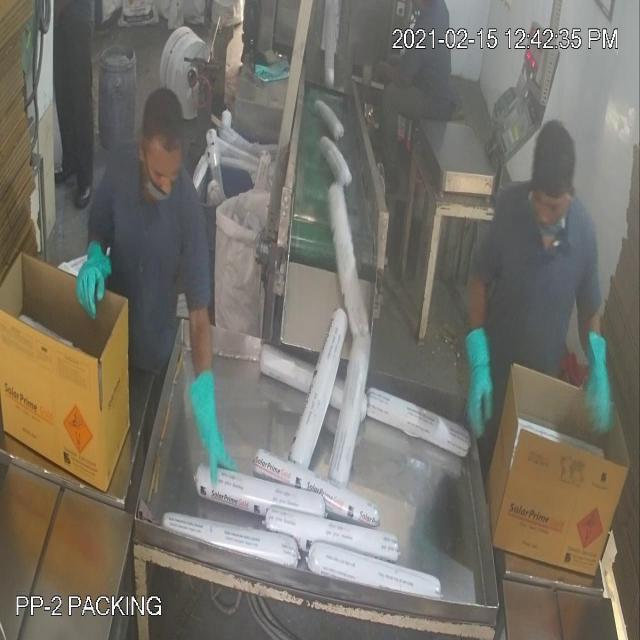Gloves: (36, 79, 599, 427)
